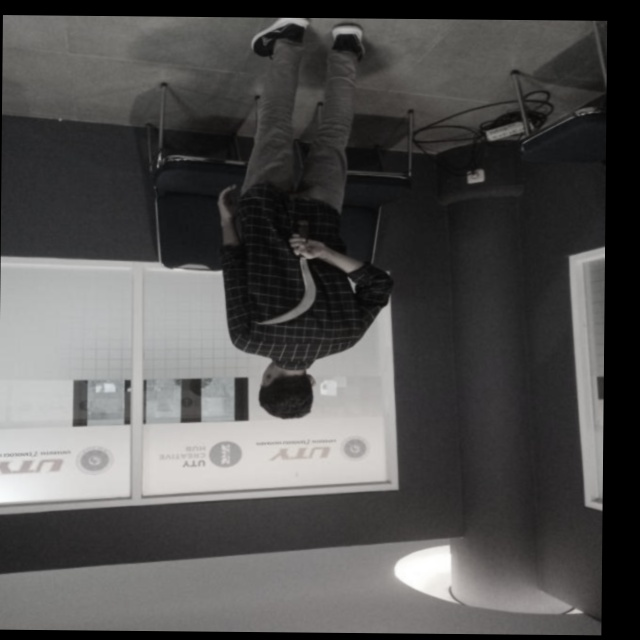Sharp-Object: (254, 227, 330, 332)
